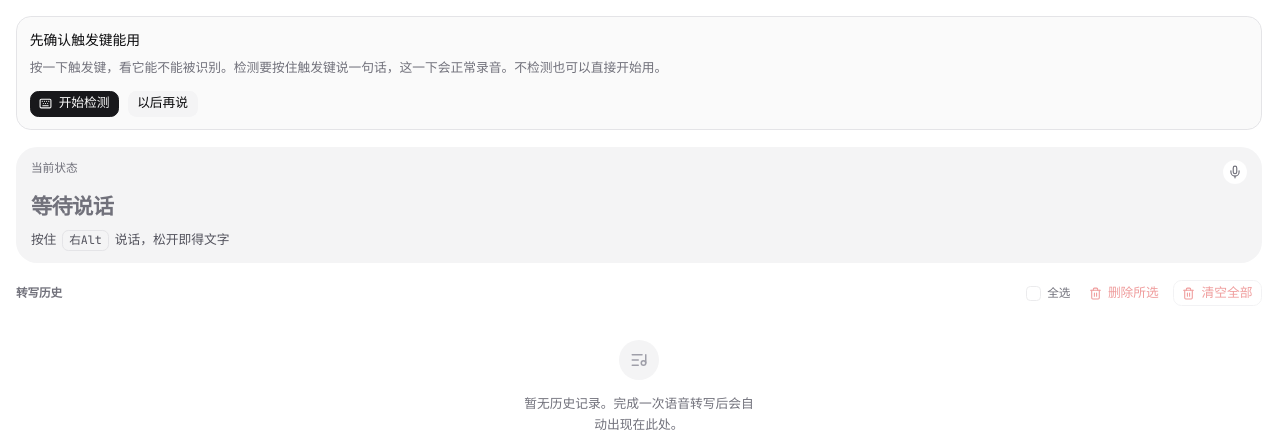
Home 触发键自检卡 › 抓到与配置一致的键时报告可用
The image size is (1279, 447).
Click the button "开始检测". click: (74,104)
box: [30,91,119,117]
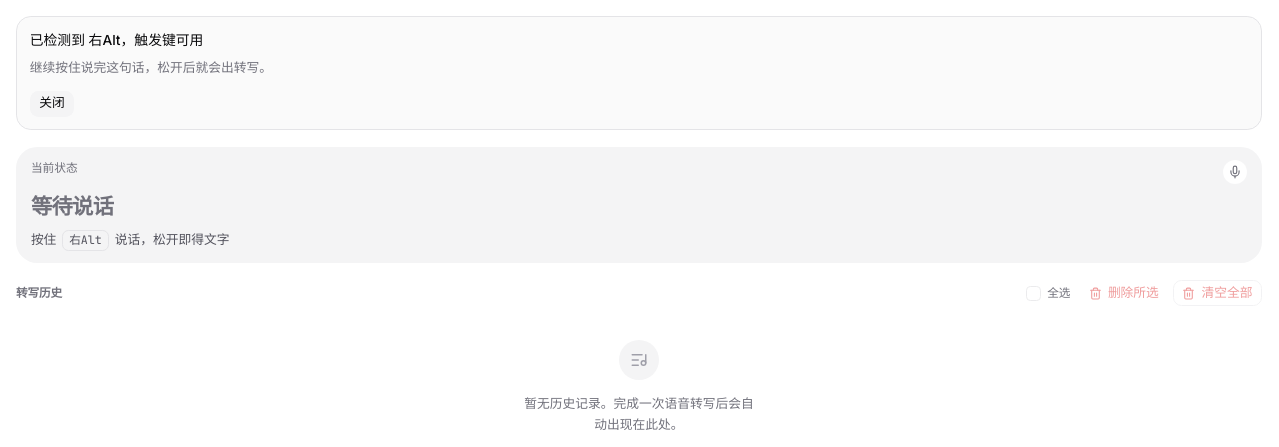
Result: the text "已检测到 右Alt，触发键可用" is shown at [30,30,203,50]
